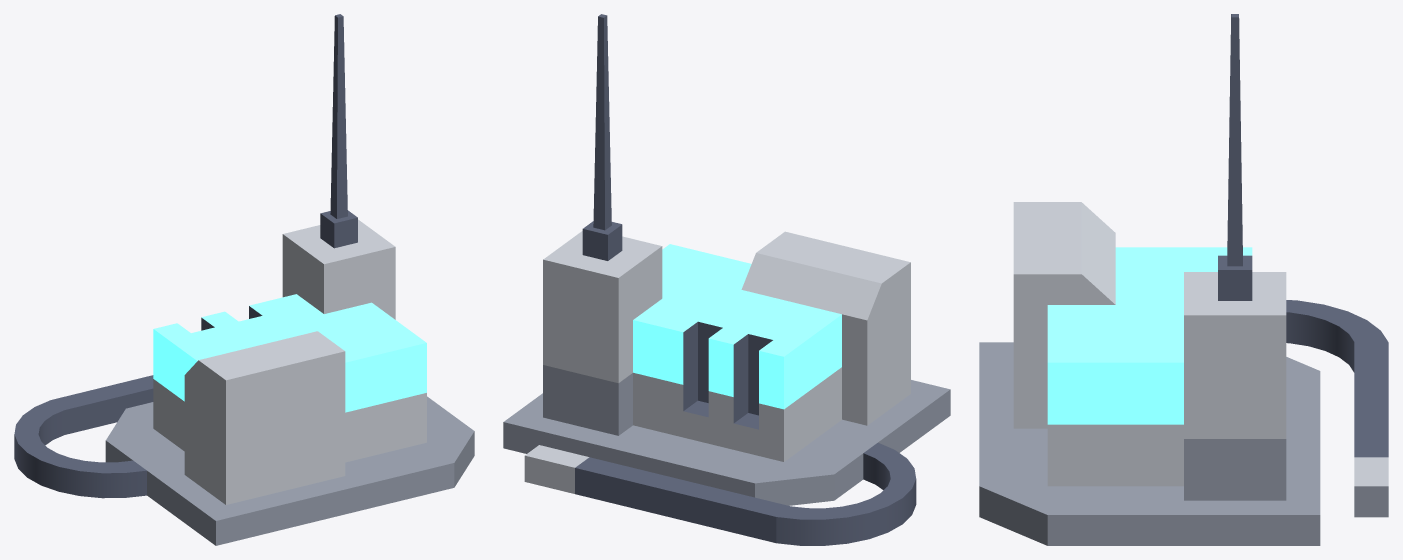
The model's file is machine_wirelessCable.glb.
The picture shows the model from 3 angles, left to right: view 1: azimuth 30°, elevation 25°; view 2: azimuth 150°, elevation 25°; view 3: azimuth 270°, elevation 25°; orthographic projection. The views are drawn at different scales.
Parts seen in each view (by area): view 1: machine_wirelessCable, cable; view 2: machine_wirelessCable, cable; view 3: machine_wirelessCable, cable.
Part boxes in pixels (x1,y1,x2,y2): machine_wirelessCable: (105, 14, 474, 545); cable: (14, 375, 153, 498); machine_wirelessCable: (503, 14, 950, 505); cable: (524, 442, 916, 545); machine_wirelessCable: (979, 14, 1320, 545); cable: (1286, 300, 1388, 517).
Bounding box in the file's own units: 0.75 × 0.8 × 0.6.
